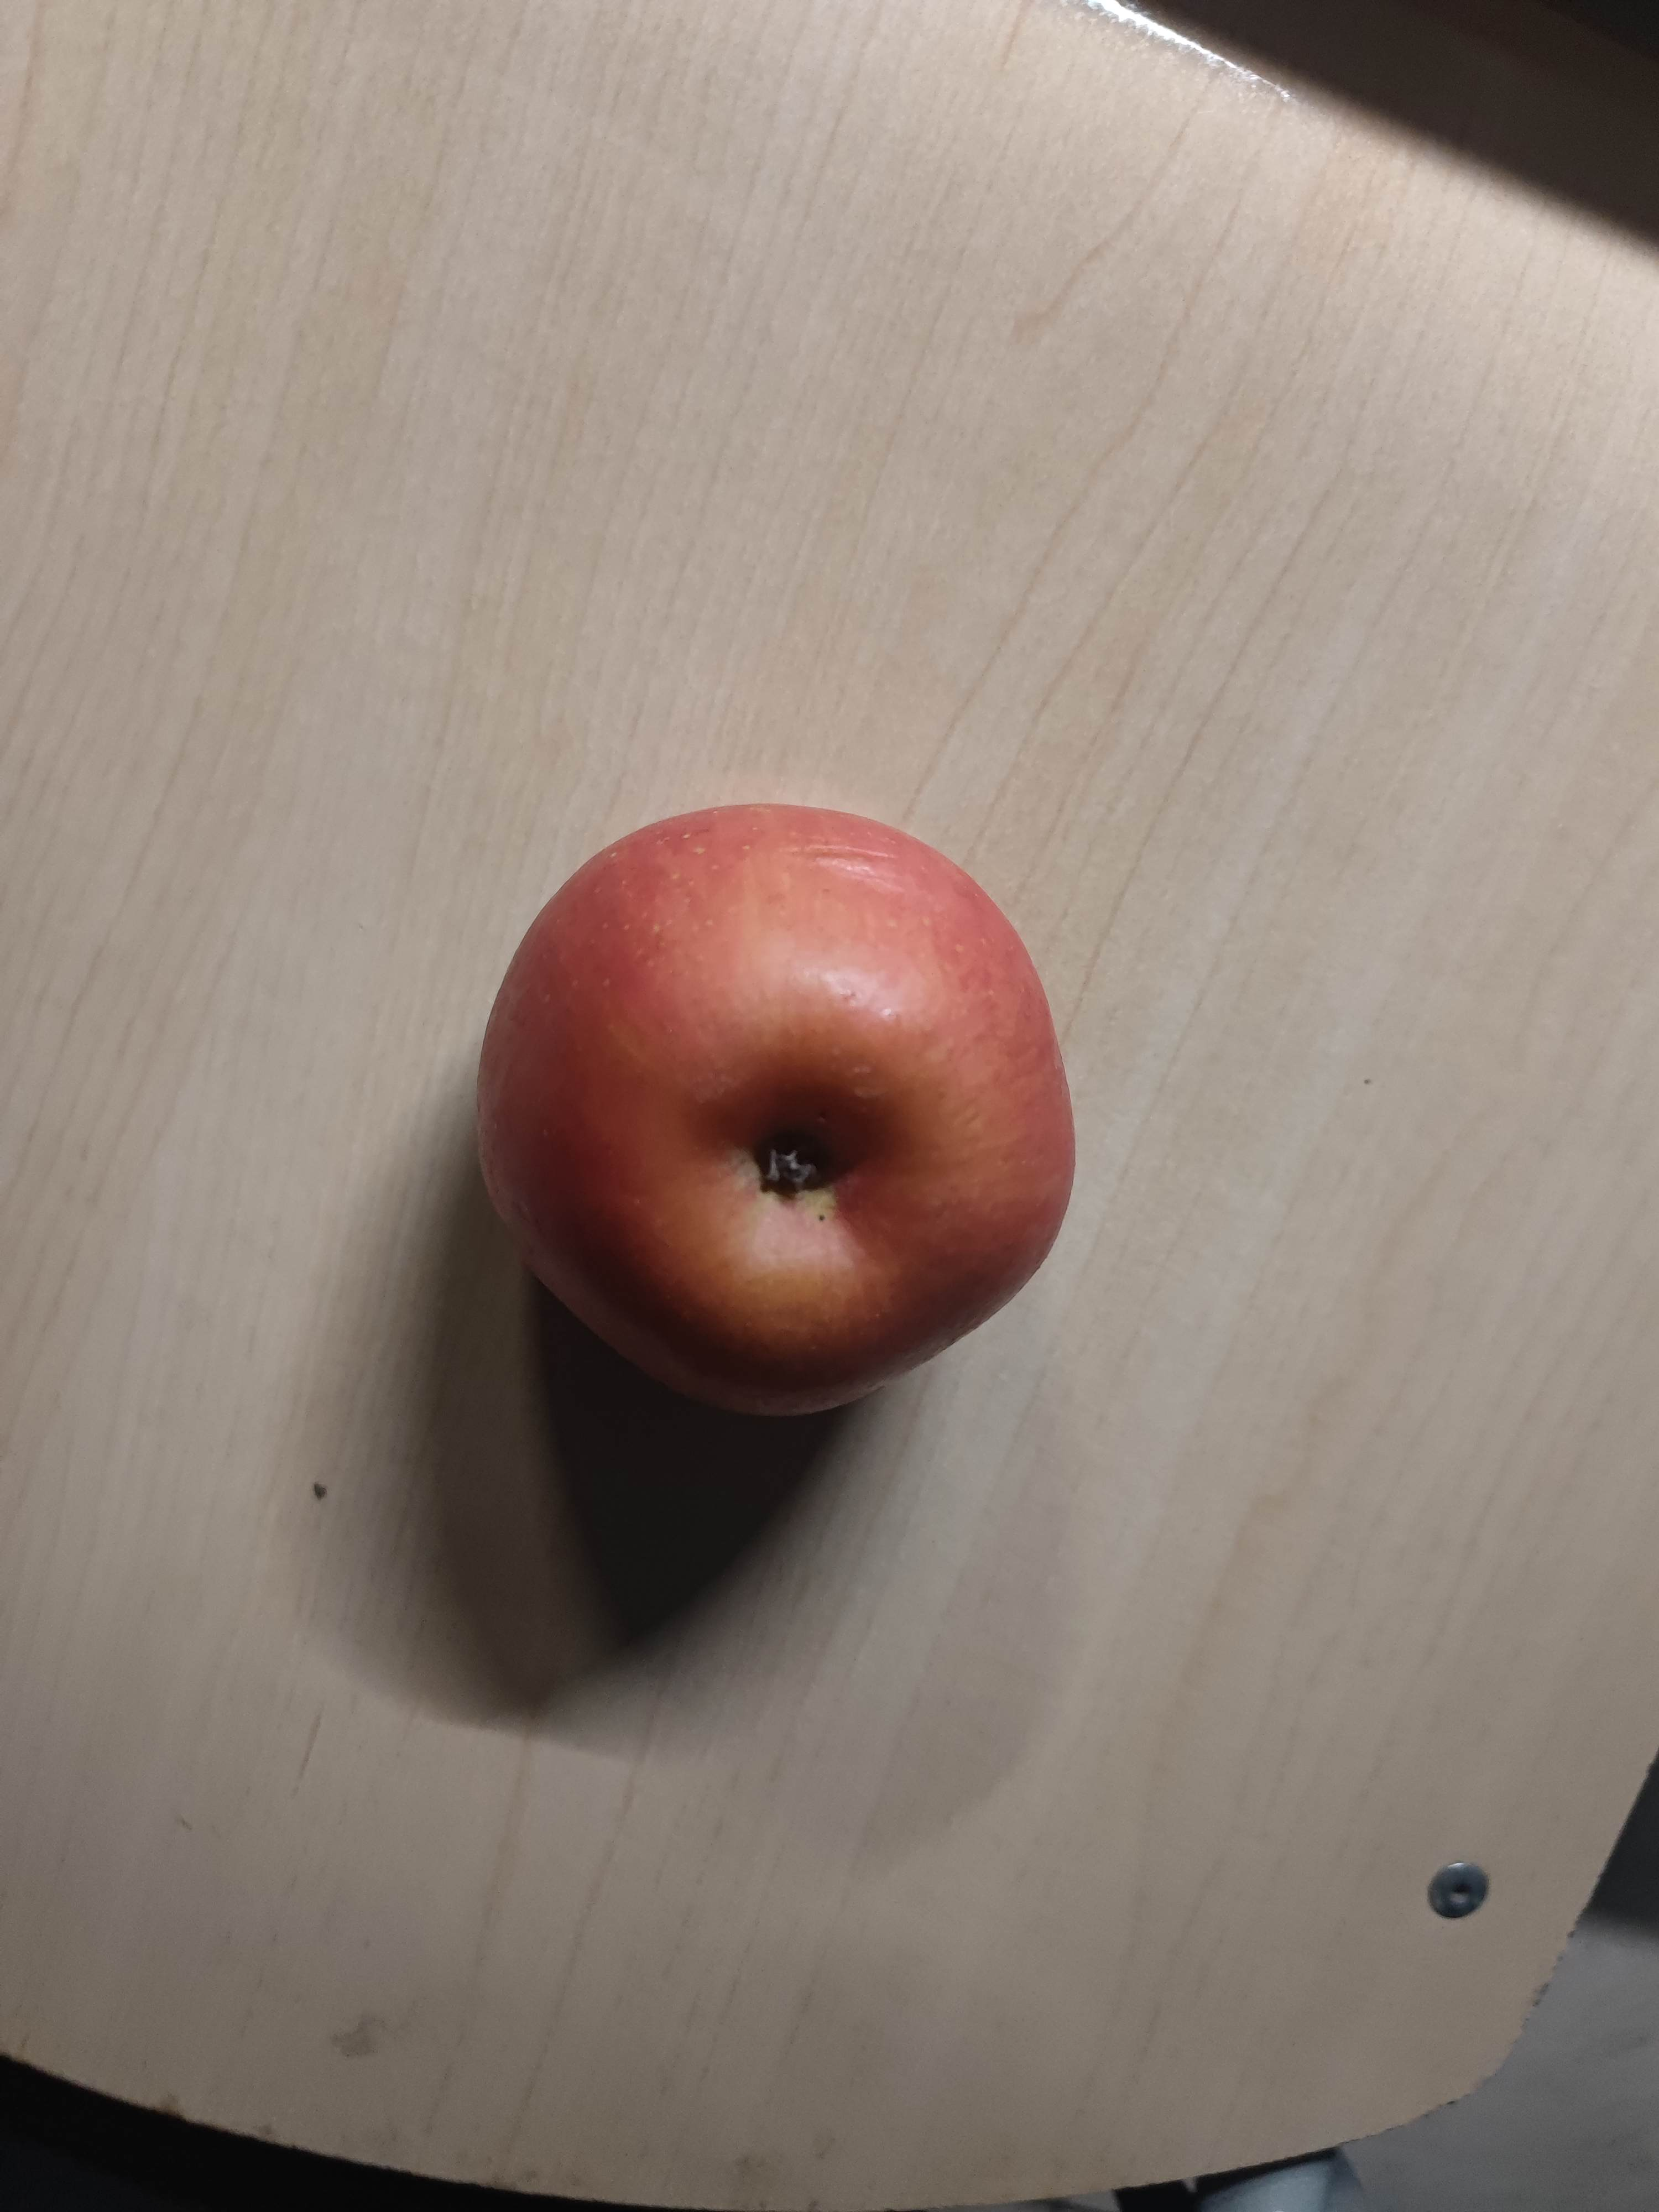apple: (472, 803, 1093, 1423)
